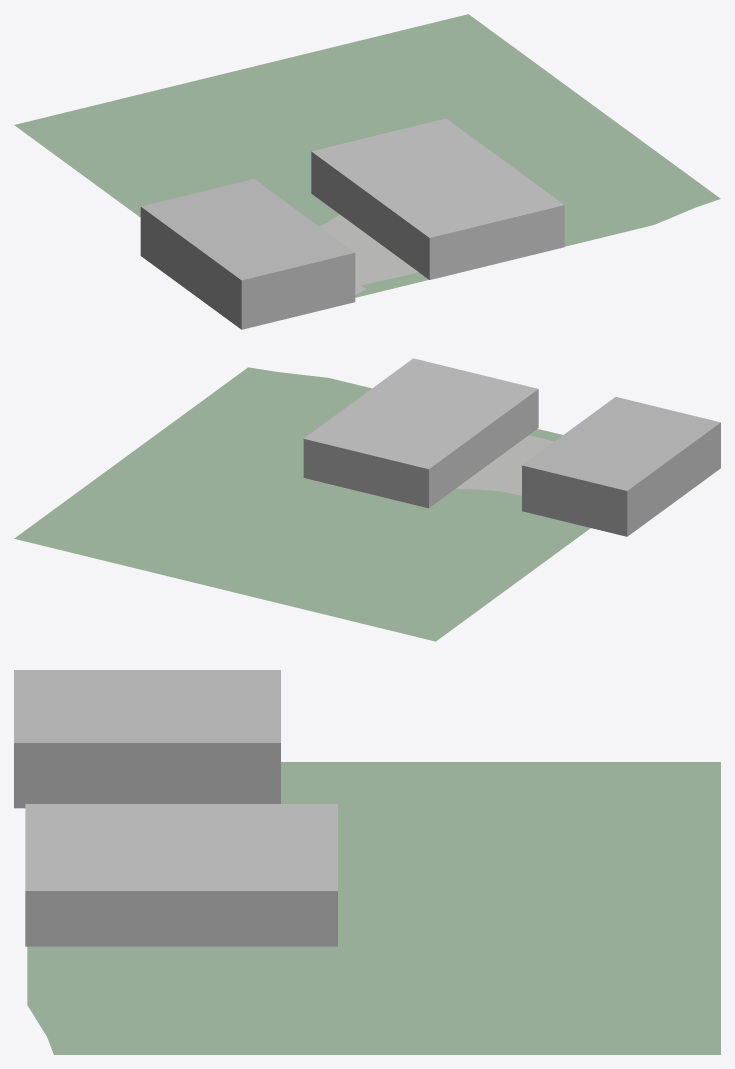
The model's file is 93_103_mid.glb.
The picture shows the model from 3 angles, top to bottom: view 1: azimuth 30°, elevation 25°; view 2: azimuth 150°, elevation 25°; view 3: azimuth 270°, elevation 25°; orthographic projection. The views are drawn at different scales.
Bounding box in the file's own units: 544 × 52.67 × 510.
